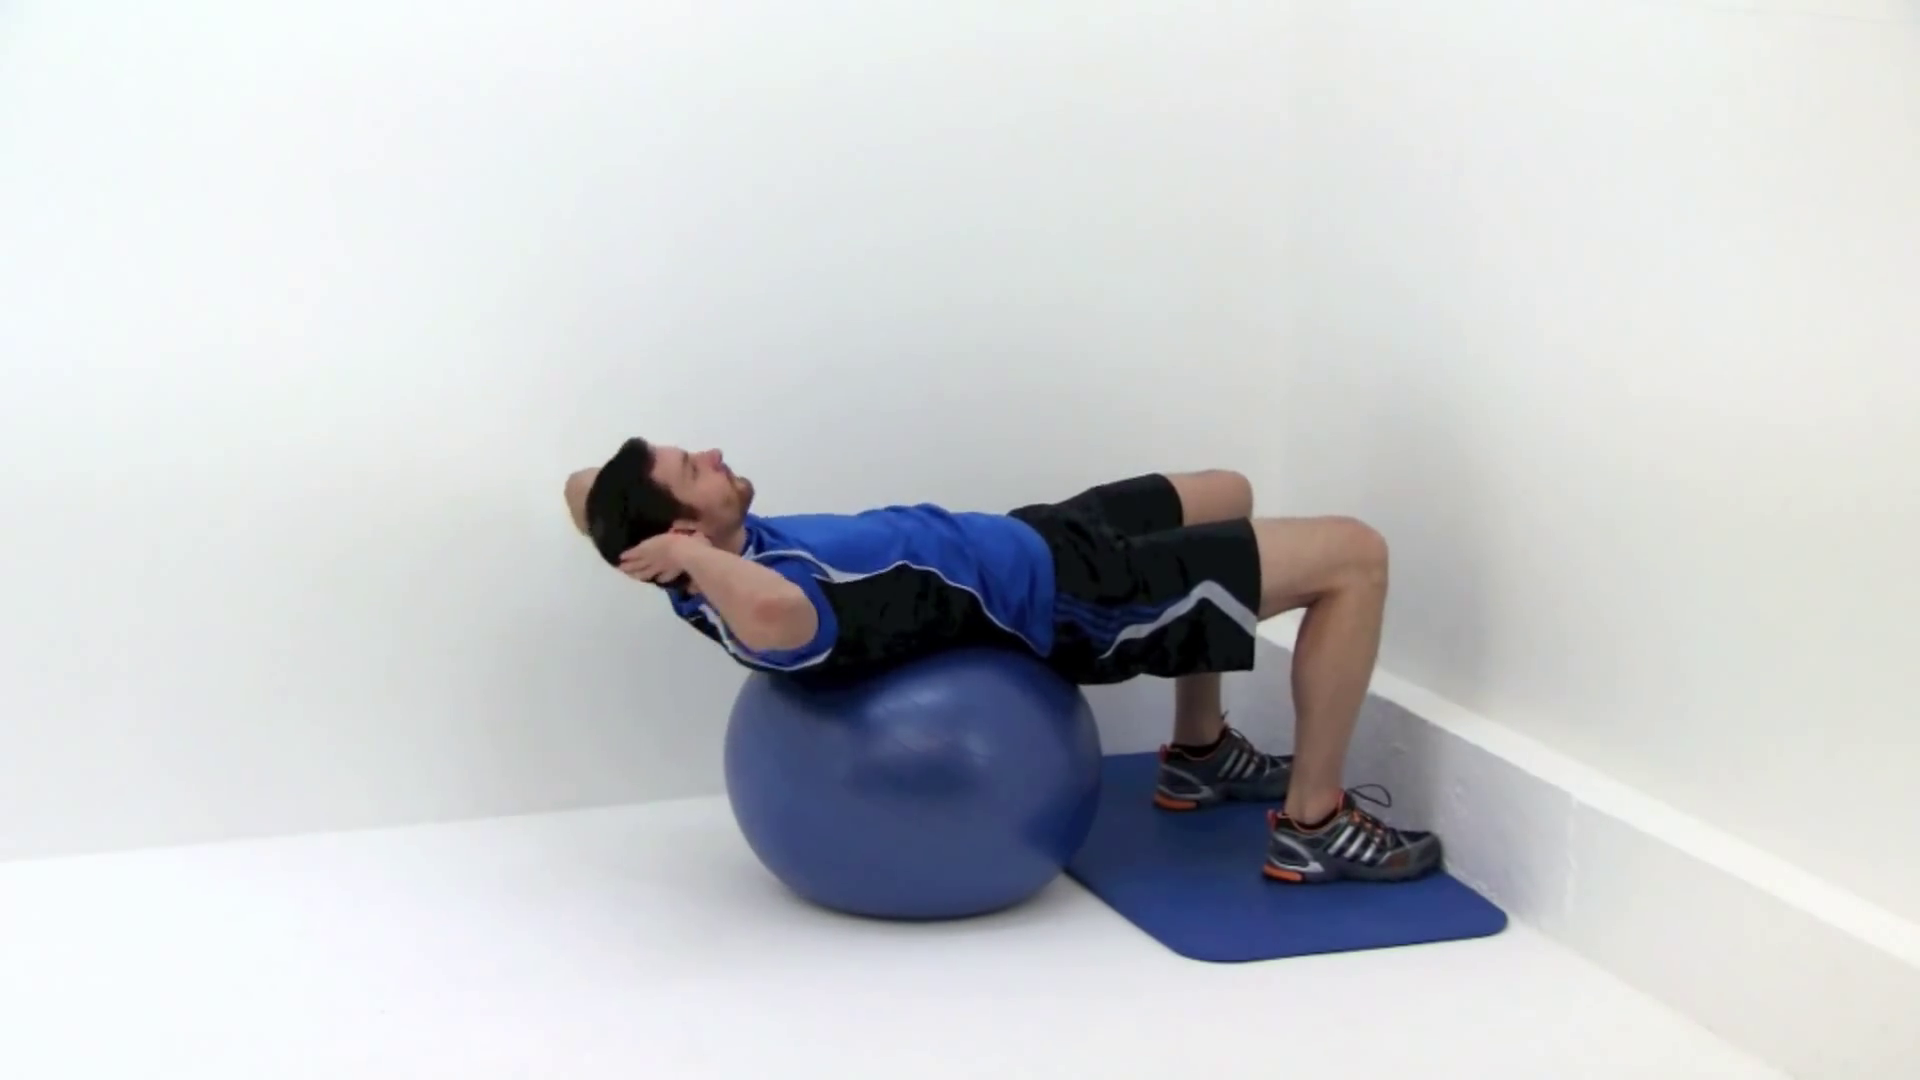yogaball: (705, 649, 1114, 930)
